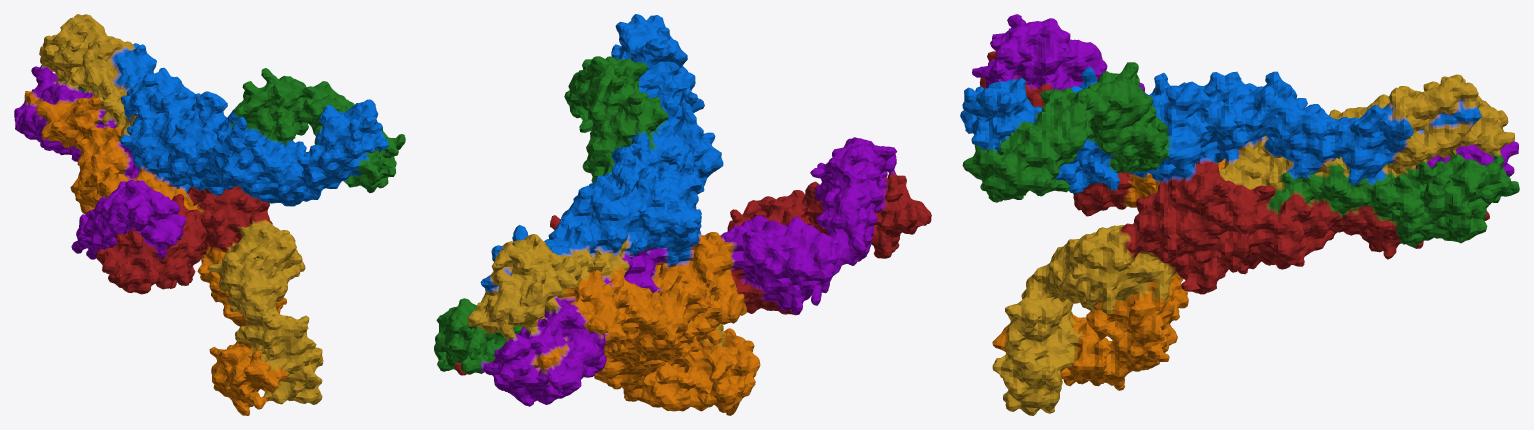
File: anticuerpo.glb
3 renders of one model, left to right at view 1: azimuth 30°, elevation 25°; view 2: azimuth 150°, elevation 25°; view 3: azimuth 270°, elevation 25°, orthographic. The views are drawn at different scales.
Visible parts, largest first — view 1: 5ugy-mol-surf-highres-bychain-pymesh; view 2: 5ugy-mol-surf-highres-bychain-pymesh; view 3: 5ugy-mol-surf-highres-bychain-pymesh.
Boxes of the visible parts, x1,y1,x2,y2 form: 5ugy-mol-surf-highres-bychain-pymesh: (14, 14, 405, 415); 5ugy-mol-surf-highres-bychain-pymesh: (434, 14, 931, 415); 5ugy-mol-surf-highres-bychain-pymesh: (960, 14, 1519, 415).
Bounding box in the file's own units: 144 × 139 × 197.
